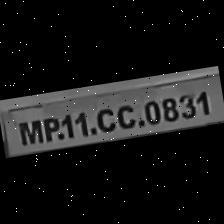0: (138, 96, 162, 126)
1: (70, 107, 93, 139), (193, 86, 214, 116), (56, 111, 76, 140)
3: (176, 90, 198, 120)
8: (158, 92, 180, 124)
C: (90, 103, 118, 134), (112, 99, 138, 130)
M: (14, 117, 42, 146)
P: (38, 113, 62, 144)
